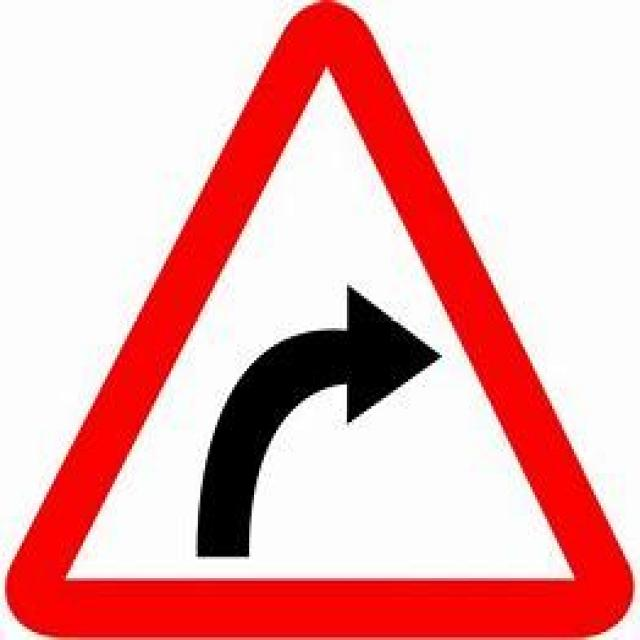RIGHT_HAND_CURVE: (2, 0, 632, 637)
